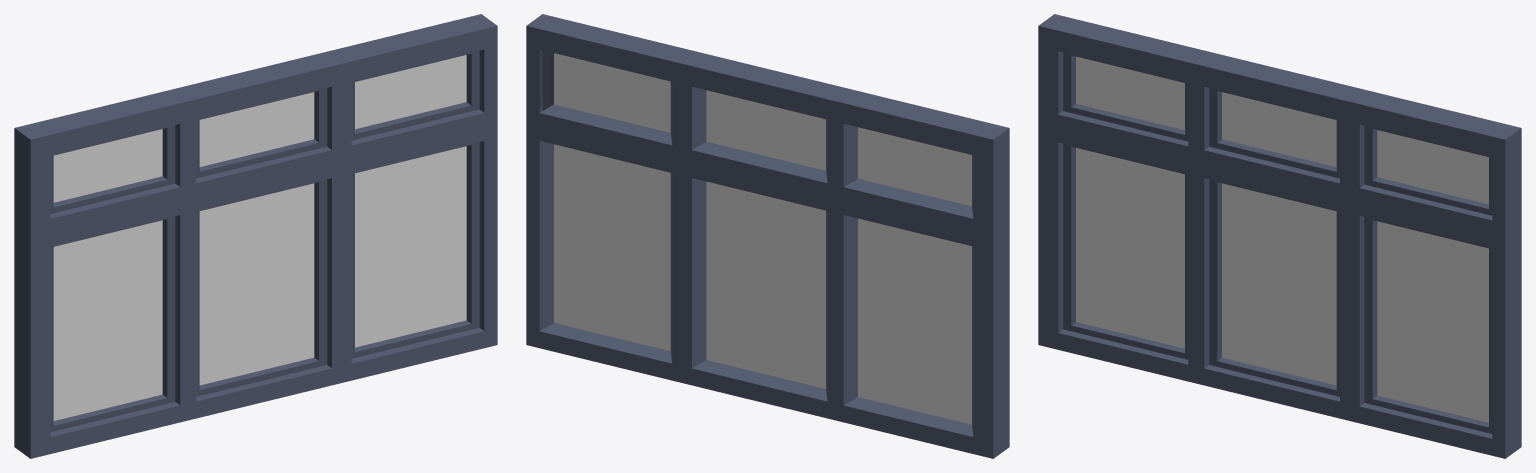
The model's file is Windowsv2.fbx.
3 renders of one model, left to right at view 1: azimuth 30°, elevation 25°; view 2: azimuth 150°, elevation 25°; view 3: azimuth 330°, elevation 25°, orthographic.
Visible parts, largest first — view 1: Jendela; view 2: Jendela; view 3: Jendela.
Boxes of the visible parts, left/top/right/bottom form: Jendela: left=14, top=14, right=497, bottom=458; Jendela: left=526, top=14, right=1009, bottom=458; Jendela: left=1038, top=14, right=1521, bottom=458.
Size of the model in its own units: 360 by 235 by 21.62.
